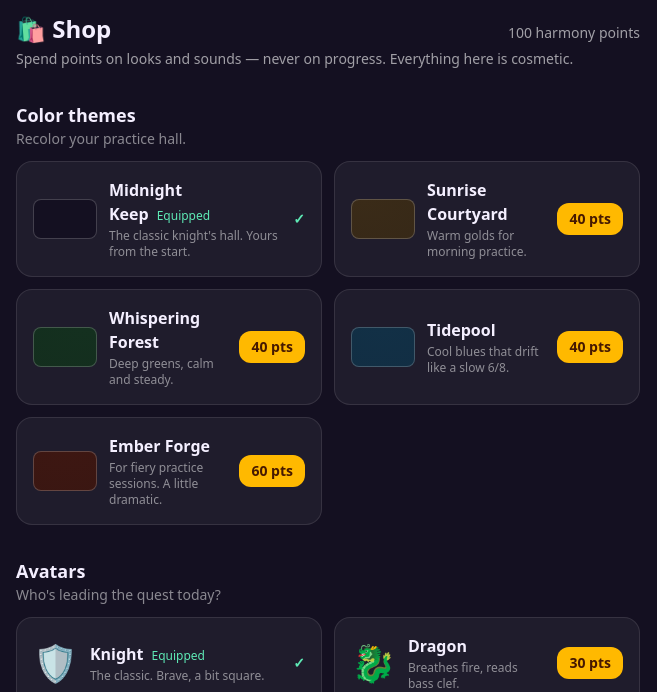
Scenario: shop screen › buys an affordable item, deducts points, and equips it
Expected: the text "100 harmony points" is shown, 508,23 -> 640,43
// Dragon is the first 30-pt item (avatars section order is stable).
Click the button "30 pts" in the row of "Dragon": (590, 663) 557,647 -> 623,679
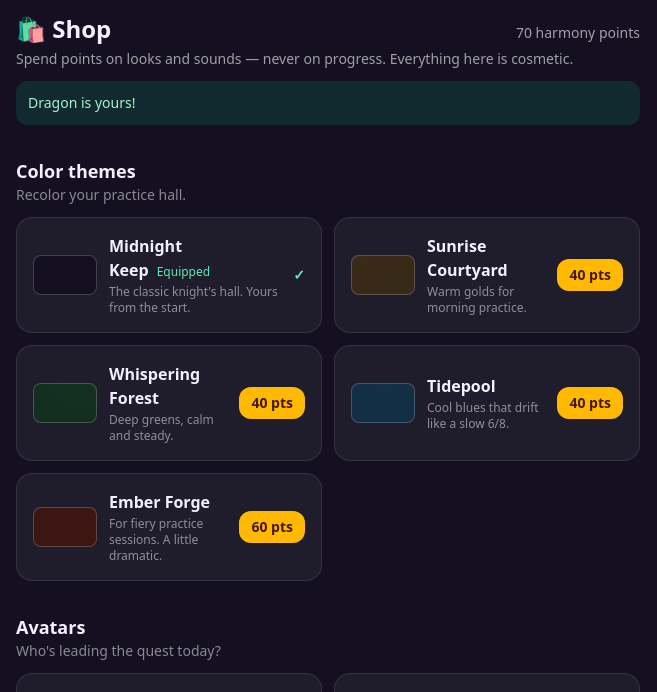
Expected: the text "Dragon is yours!" is shown, 16,81 -> 640,125
